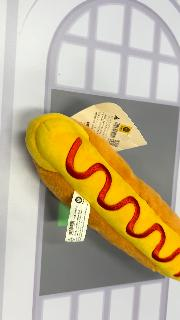hotdog: (25, 112, 179, 282)
